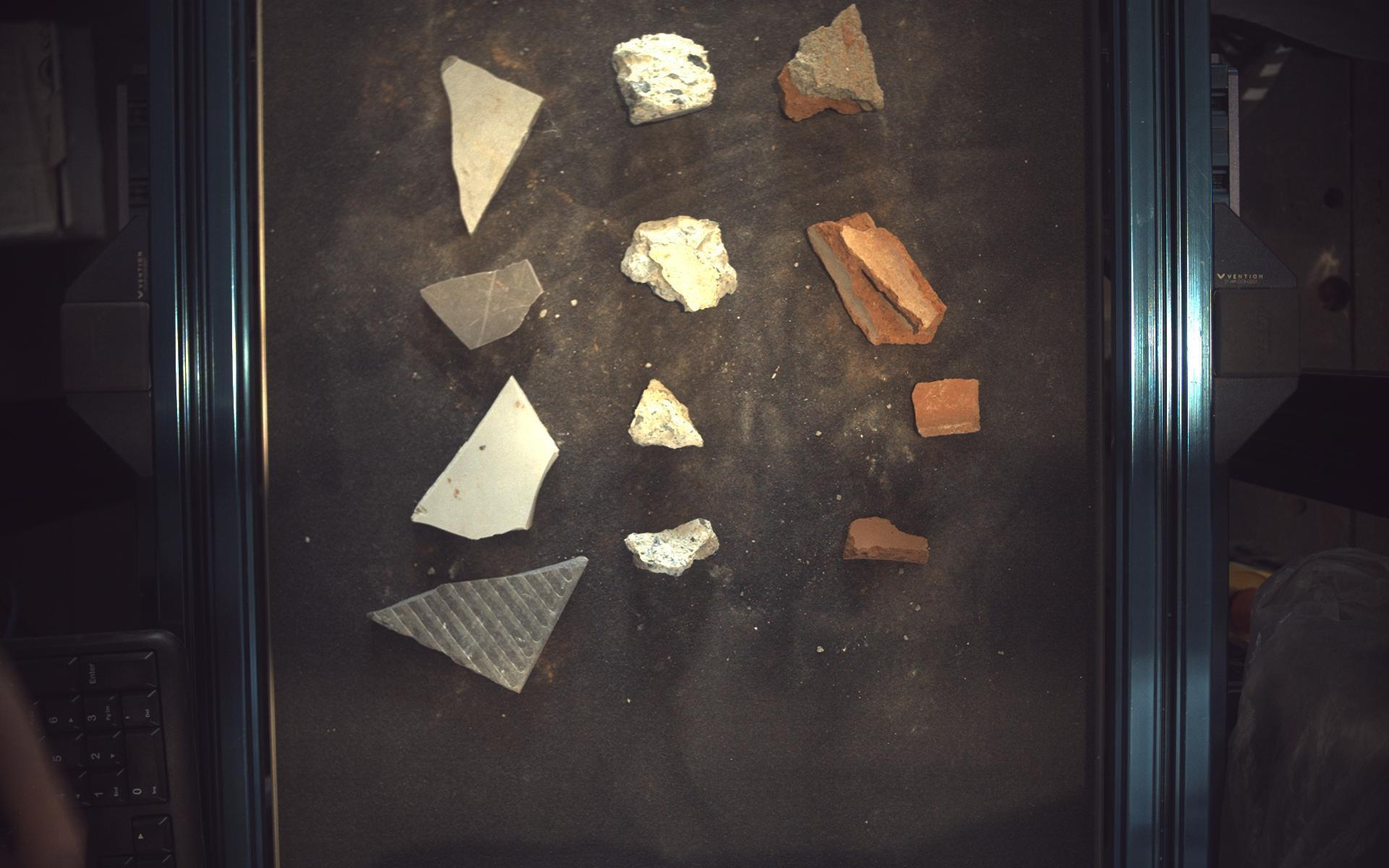brick: (809, 213, 948, 345), (779, 3, 885, 119), (844, 517, 931, 564), (914, 379, 982, 437)
concrete: (621, 215, 739, 312), (613, 32, 718, 124), (625, 519, 720, 577), (629, 378, 705, 449)
tile: (368, 558, 589, 694), (411, 376, 560, 540), (441, 54, 543, 233), (420, 259, 544, 349)
